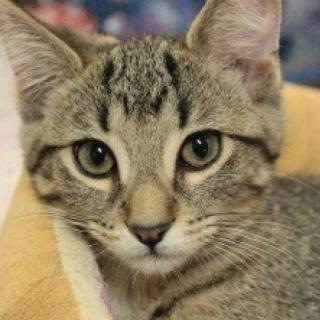cat: (0, 0, 291, 277)
nose: (118, 178, 182, 252)
